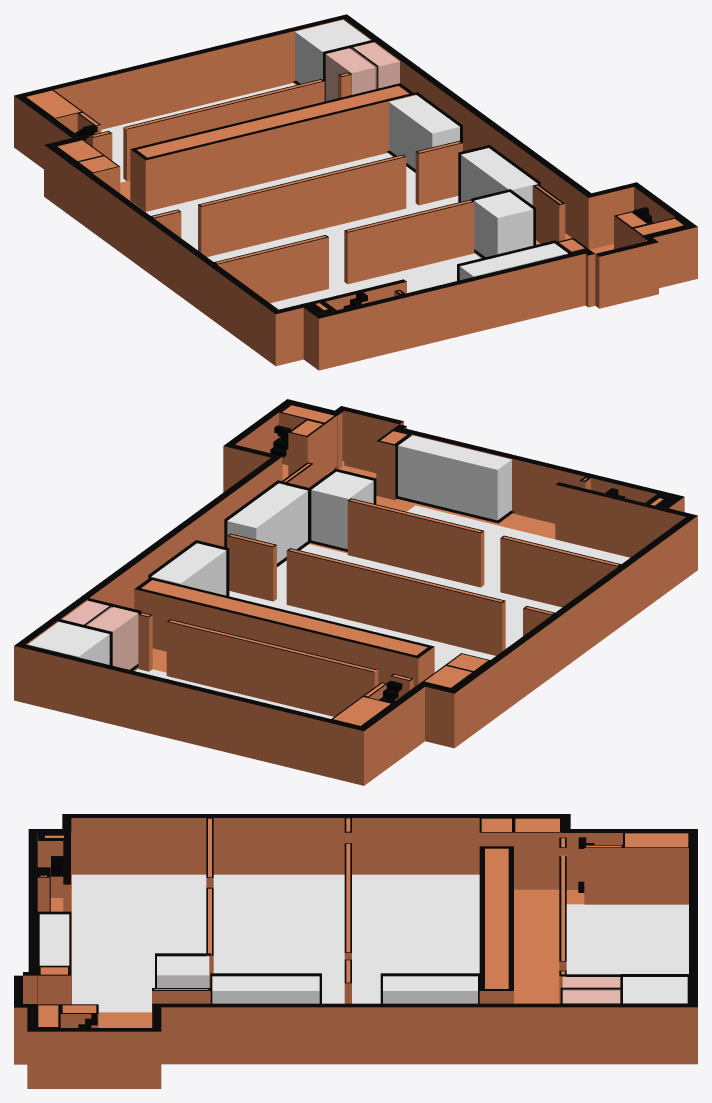
3 renders of one model, top to bottom at view 1: azimuth 30°, elevation 25°; view 2: azimuth 150°, elevation 25°; view 3: azimuth 270°, elevation 25°, orthographic. The views are drawn at different scales.
Parts seen in each view (by area): view 1: object, room_S_B1_8, room_S_B1_6, room_S_B1_7, room_S_B1_3, room_S_B1_4, room_S_B1_2, room_S_B1_5, トイレ_S_B1_2, room_S_B1_9, room_S_B1_1, トイレ_S_B1_1; view 2: object, room_S_B1_9, room_S_B1_7, room_S_B1_3, room_S_B1_8, room_S_B1_4, room_S_B1_6, room_S_B1_5, room_S_B1_2, トイレ_S_B1_2, object_line.006, room_S_B1_1 (+2 smaller); view 3: object, room_S_B1_4, room_S_B1_3, room_S_B1_2, room_S_B1_1, room_S_B1_7, room_S_B1_6, room_S_B1_5, room_S_B1_8, room_S_B1_9, トイレ_S_B1_1, トイレ_S_B1_2 (+4 smaller).
Boxes of the visible parts, box(x1,y1,x2,y2) form: object: box(14, 14, 697, 370); room_S_B1_8: box(474, 192, 533, 256); room_S_B1_6: box(389, 95, 459, 168); room_S_B1_7: box(461, 148, 537, 204); room_S_B1_3: box(207, 196, 458, 286); room_S_B1_4: box(270, 253, 480, 309); room_S_B1_2: box(130, 153, 416, 250); room_S_B1_5: box(295, 20, 370, 83); トイレ_S_B1_2: box(325, 48, 375, 101); room_S_B1_9: box(459, 243, 567, 280); room_S_B1_1: box(101, 83, 295, 182); トイレ_S_B1_1: box(351, 42, 399, 88); object: box(14, 399, 697, 785); room_S_B1_9: box(398, 435, 511, 520); room_S_B1_7: box(227, 483, 307, 563); room_S_B1_3: box(275, 544, 561, 648); room_S_B1_8: box(311, 471, 373, 548); room_S_B1_4: box(407, 505, 629, 590); room_S_B1_6: box(151, 543, 226, 595); room_S_B1_5: box(27, 622, 109, 664); room_S_B1_2: box(229, 591, 495, 672); トイレ_S_B1_2: box(88, 607, 138, 669); object_line.006: box(395, 432, 514, 523); room_S_B1_1: box(135, 669, 333, 718); object: box(14, 814, 697, 1088); room_S_B1_4: box(72, 874, 206, 1012); room_S_B1_3: box(213, 874, 344, 1003); room_S_B1_2: box(352, 874, 479, 1003); room_S_B1_1: box(566, 904, 688, 974); room_S_B1_7: box(212, 976, 319, 1003); room_S_B1_6: box(383, 976, 477, 1003); room_S_B1_5: box(623, 977, 687, 1003); room_S_B1_8: box(157, 956, 209, 987); room_S_B1_9: box(39, 914, 69, 965); トイレ_S_B1_1: box(562, 990, 620, 1003); トイレ_S_B1_2: box(562, 977, 620, 990).
Size of the model in its own units: 1.45 by 0.1835 by 1.93.
